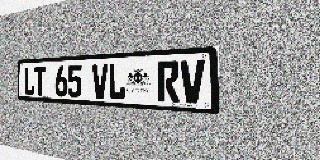5: (68, 65, 82, 98)
6: (55, 65, 68, 97)
L: (109, 63, 126, 100), (24, 67, 34, 95)
R: (158, 61, 180, 103)
T: (35, 66, 46, 96)
V: (180, 59, 205, 104), (92, 64, 108, 99)
